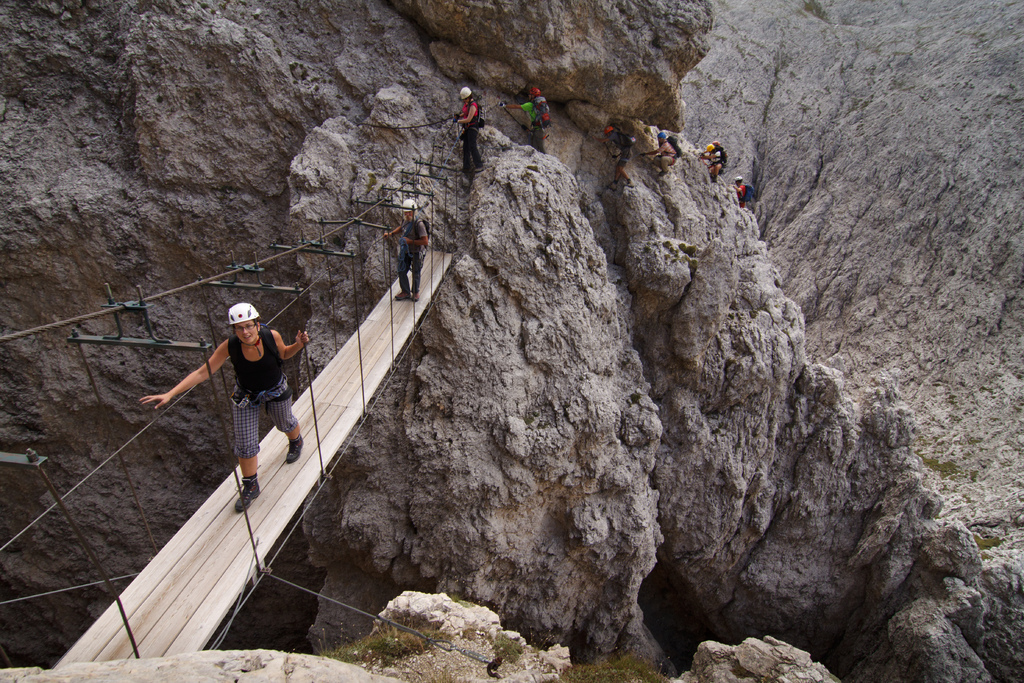Person: (140, 301, 309, 513), (383, 200, 428, 301), (496, 87, 547, 155), (453, 88, 482, 175), (600, 128, 633, 194), (641, 129, 675, 177), (699, 144, 724, 184), (729, 174, 747, 210)
